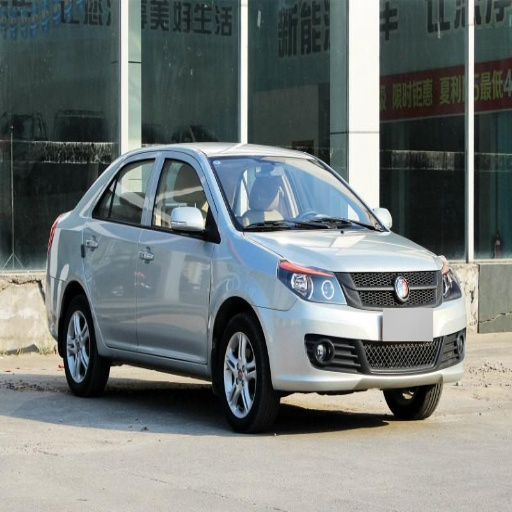back_right_door: (83, 154, 158, 347)
front_bumper: (259, 267, 470, 393)
front_right_door: (136, 153, 218, 363)
front_right_light: (280, 267, 340, 301)
hood: (241, 231, 443, 268)
